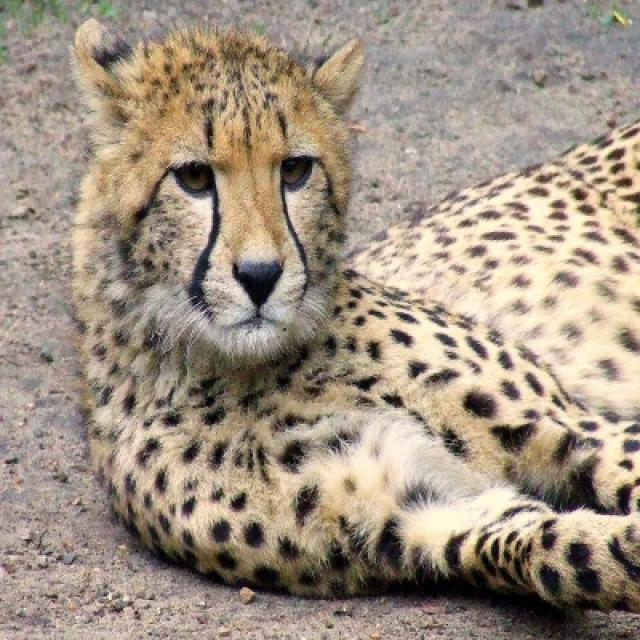Cheetah: (72, 21, 638, 616)
